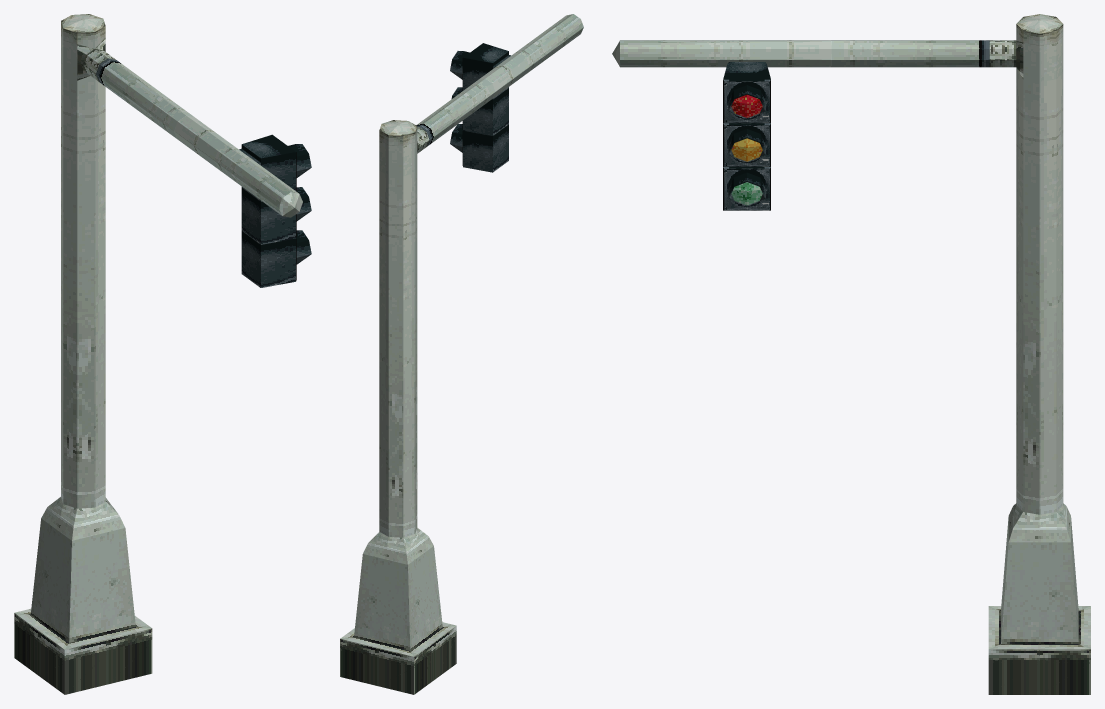
File: traffic_light_L.glb
The picture shows the model from 3 angles, left to right: view 1: azimuth 30°, elevation 25°; view 2: azimuth 150°, elevation 25°; view 3: azimuth 270°, elevation 25°; orthographic projection. The views are drawn at different scales.
Visible parts, largest first — view 1: traffic_light_L; view 2: traffic_light_L; view 3: traffic_light_L.
Boxes of the visible parts, x1,y1,x2,y2 form: traffic_light_L: (14,14,311,694); traffic_light_L: (340,14,583,694); traffic_light_L: (612,14,1090,694).
Size of the model in its own units: 1.08 by 5.66 by 3.76.
Materials: 1 (1 with a texture image).
